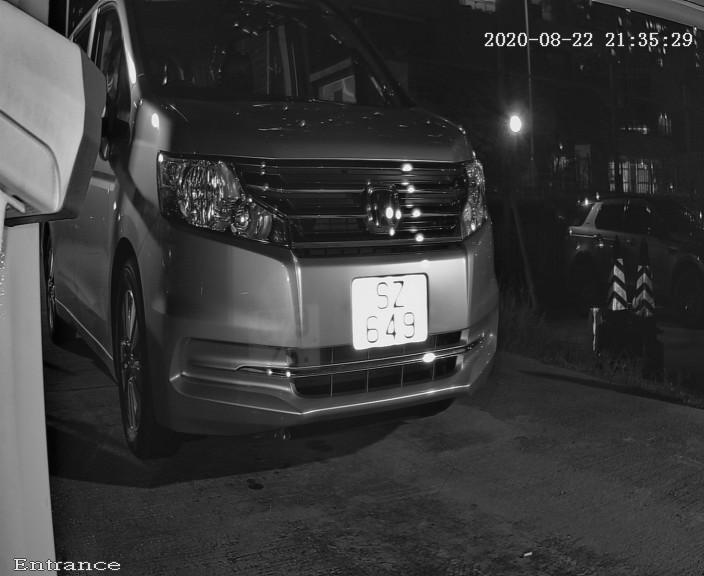Car: (38, 3, 576, 471)
License Plate: (325, 260, 450, 372)
